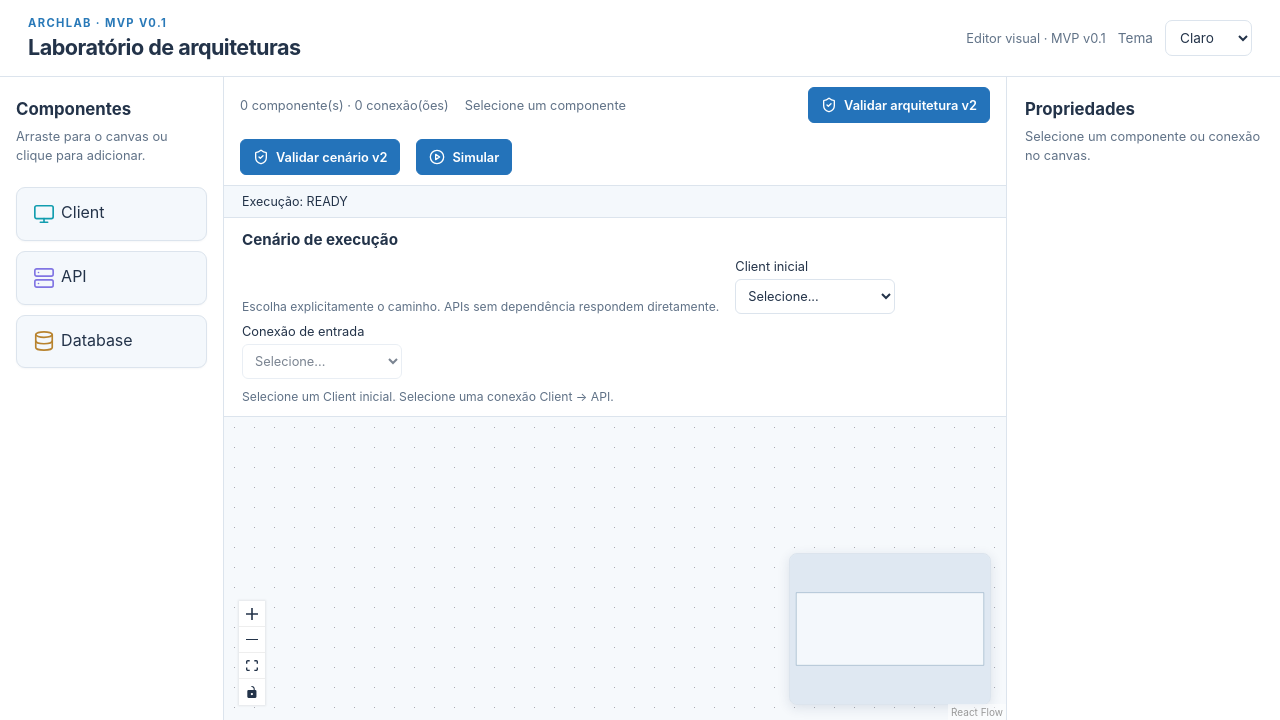
Test case: Editor visual › valida cenário em rota separada sem executar o motor
Click the button "Validar cenário v2": [320, 157] box [240,139,400,175]
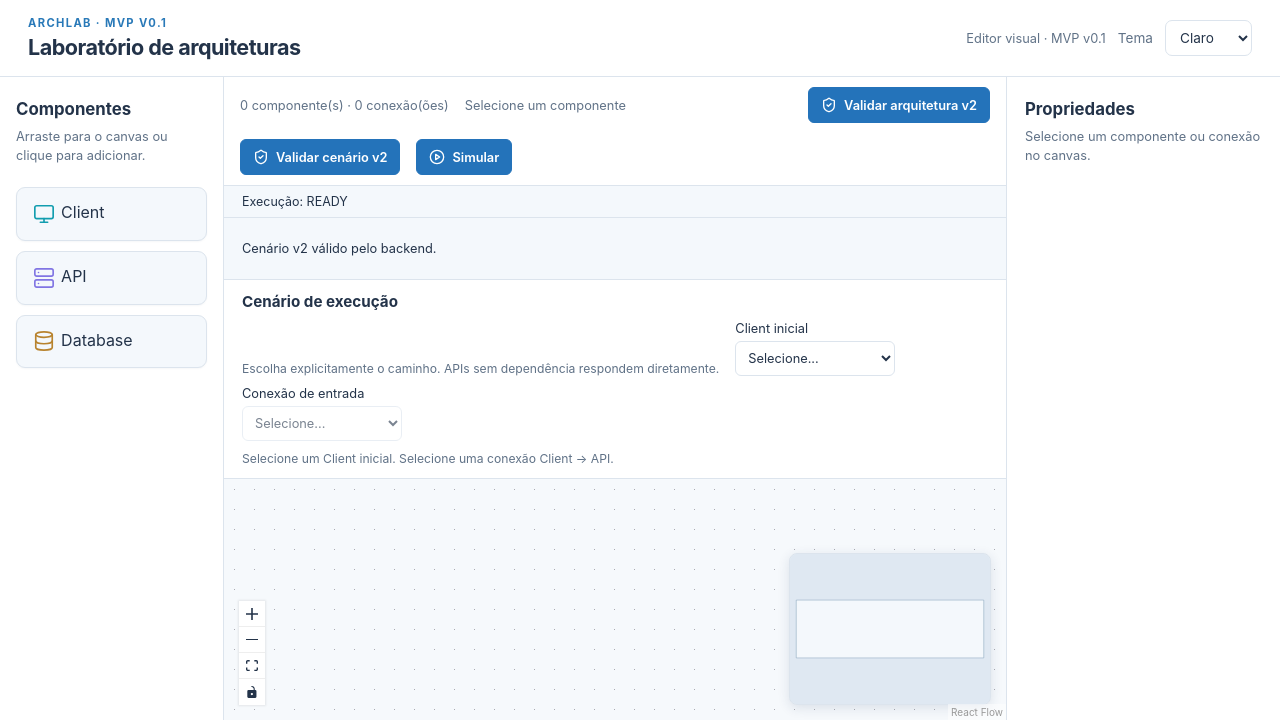
Now the text "Cenário v2 válido pelo backend." is shown, box [242,241,436,256]
